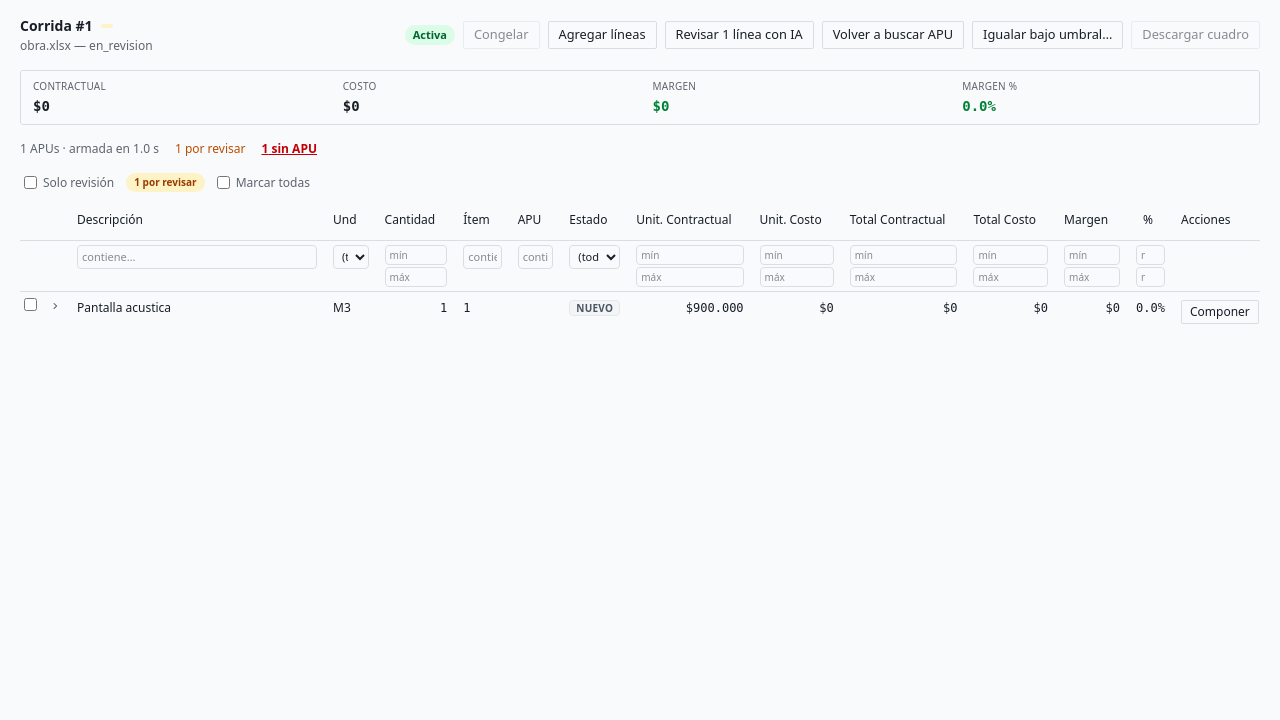
Test case: aplicar manda los seq marcados y pinta la corrida que devuelve el servidor
The image size is (1280, 720).
Expected: the text "Pantalla acustica" is shown, [77,298,171,316]
Click the button "Volver a buscar APU": (893, 35) [822,21,964,49]
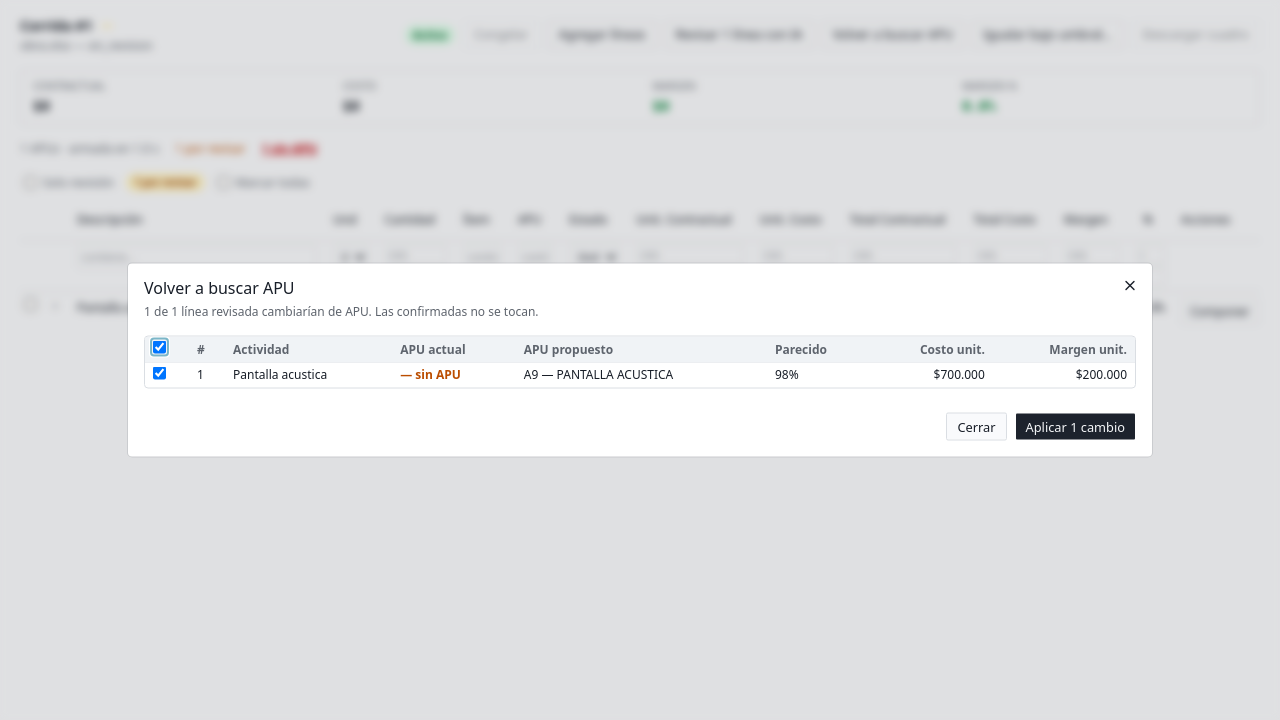
Result: the text "A9 — PANTALLA ACUSTICA" is shown at [516,362,767,388]
Click the button "Aplicar 1 cambio": (1075, 426) [1015,412,1136,440]
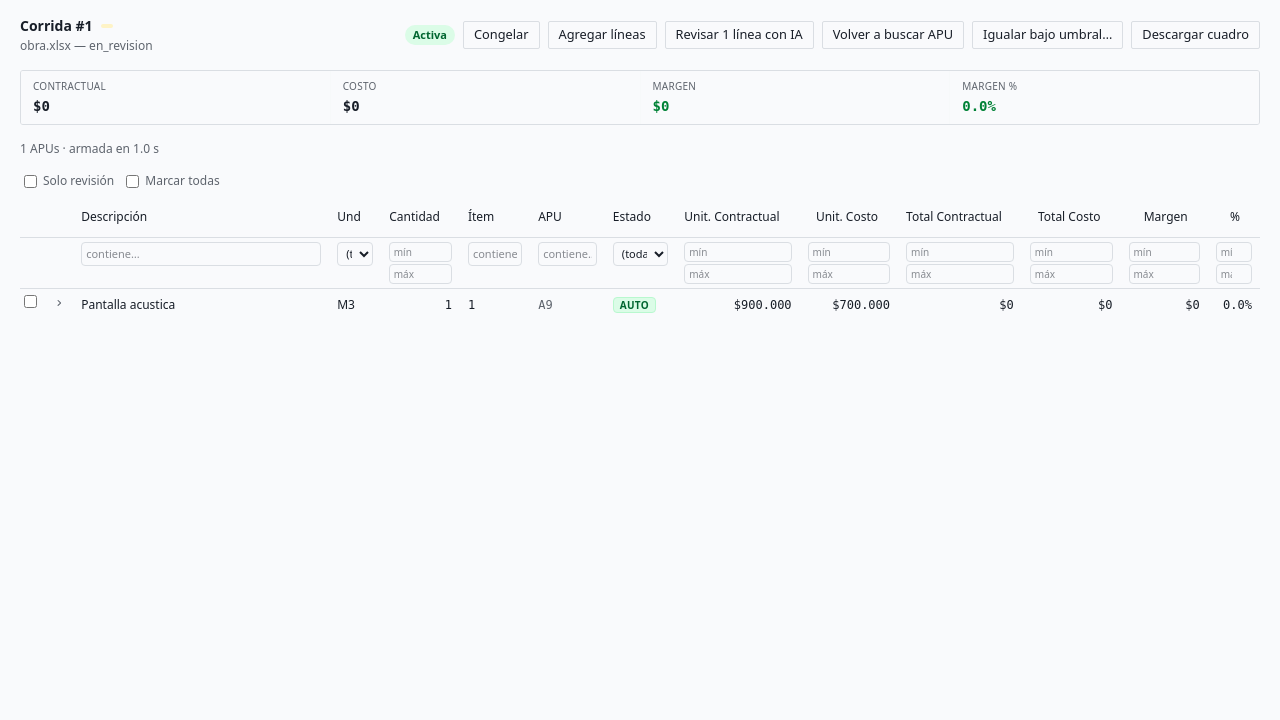
Result: the text "A9" is shown at [530,288,605,320]
